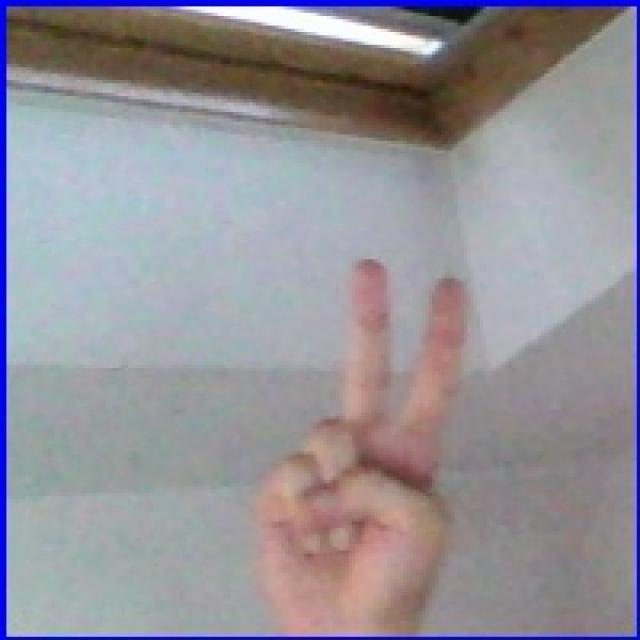Letra-V: (229, 239, 505, 627)
